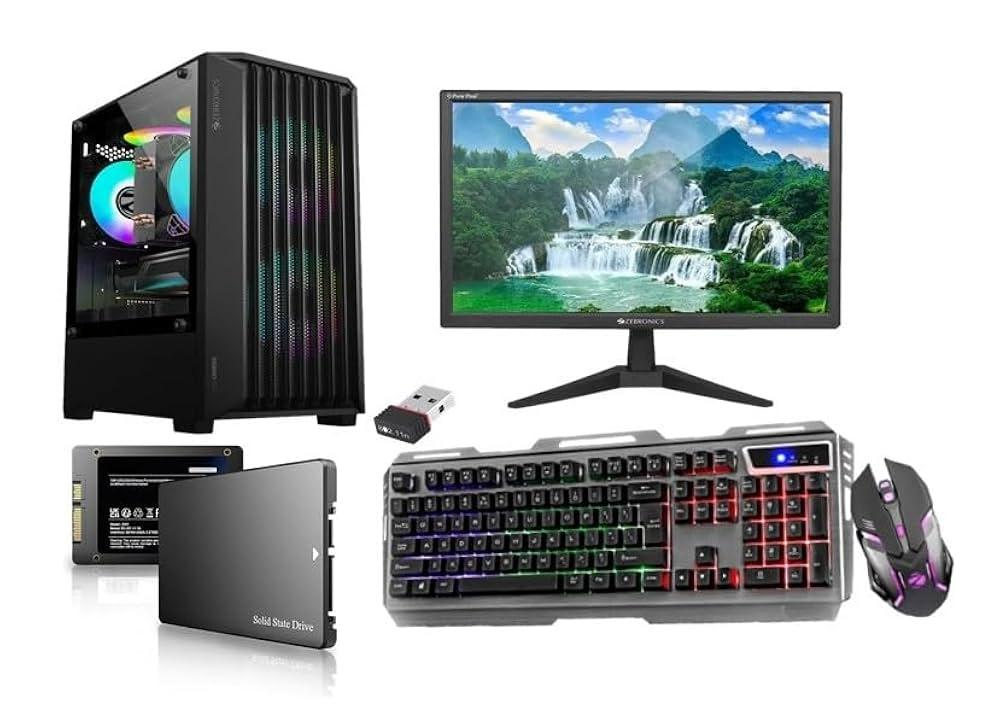keyboard: (371, 409, 870, 650)
monitor: (426, 75, 857, 352)
mouse: (840, 449, 972, 640)
pc: (44, 37, 378, 444)
